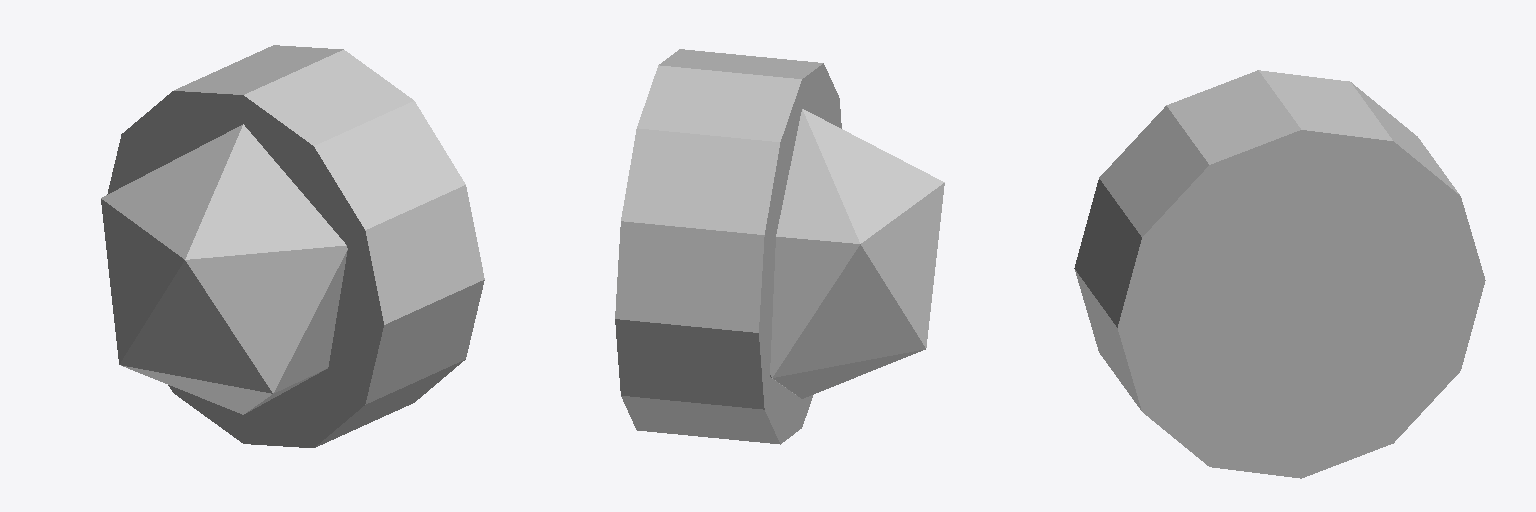
Rendered from door_gem.obj.
The picture shows the model from 3 angles: view 1: azimuth 30°, elevation 25°; view 2: azimuth 150°, elevation 25°; view 3: azimuth 270°, elevation 25°; orthographic projection.
Visible parts, largest first — view 1: DoorGem_Cylinder.001; view 2: DoorGem_Cylinder.001; view 3: DoorGem_Cylinder.001.
Part boxes in pixels (x1,y1,x2,y2): DoorGem_Cylinder.001: (101,45,484,447); DoorGem_Cylinder.001: (615,49,944,444); DoorGem_Cylinder.001: (1074,70,1485,478).
Bounding box in the file's own units: 5.31 × 6 × 6.41.